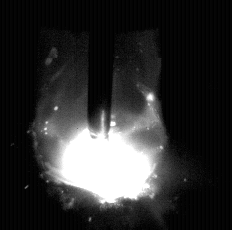arame: (88, 0, 113, 140)
poca: (33, 0, 169, 230)
